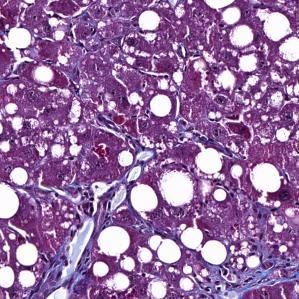fibrosis: (203, 257, 299, 299), (49, 218, 97, 276)
